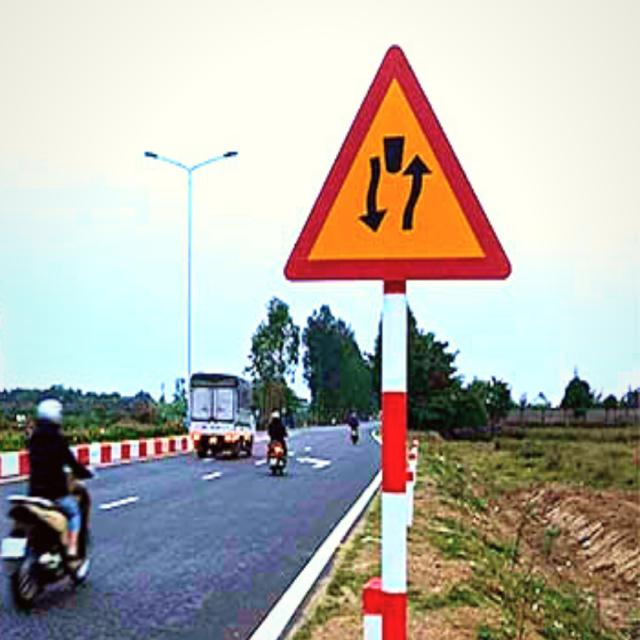bien_nguy_hiem: (278, 36, 517, 284)
